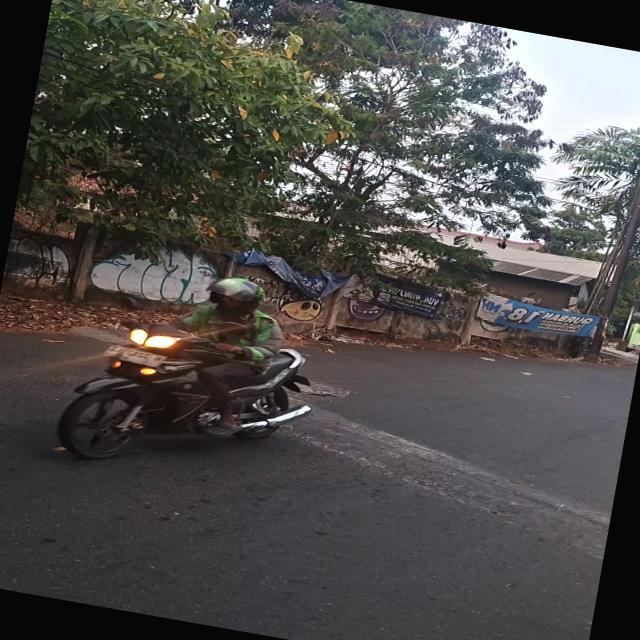WithHelmet: (157, 268, 295, 439)
